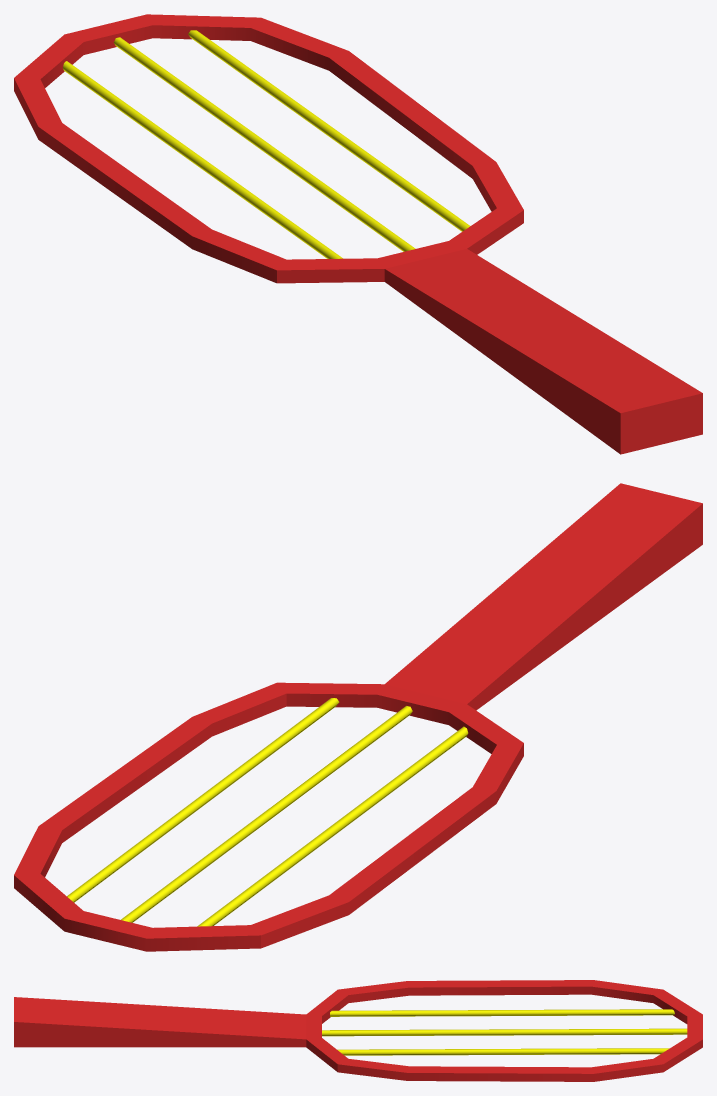
The model's file is Colander.fbx.
3 renders of one model, top to bottom at view 1: azimuth 30°, elevation 25°; view 2: azimuth 150°, elevation 25°; view 3: azimuth 270°, elevation 25°, orthographic. The views are drawn at different scales.
Visible parts, largest first — view 1: Colander; view 2: Colander; view 3: Colander.
Part boxes in pixels (x1=…): Colander: x1=14, y1=14, x2=702, y2=454; Colander: x1=14, y1=483, x2=702, y2=951; Colander: x1=14, y1=980, x2=702, y2=1081.
Size of the model in its own units: 9.58 by 1.22 by 29.73.
